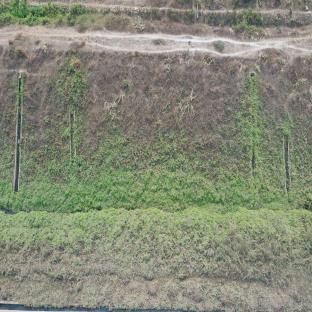slope_drain: (11, 72, 26, 194), (248, 71, 260, 178), (68, 111, 82, 177), (283, 132, 294, 199)
toe_drain: (0, 204, 186, 218)
